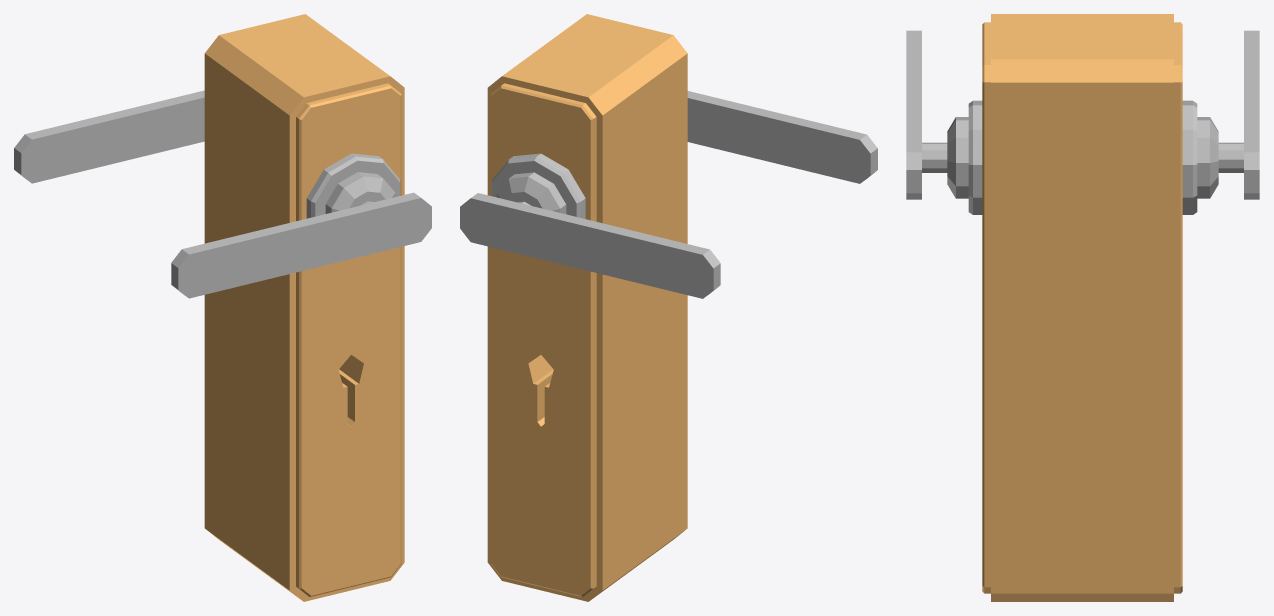
The model's file is Latch.fbx.
3 renders of one model, left to right at view 1: azimuth 30°, elevation 25°; view 2: azimuth 150°, elevation 25°; view 3: azimuth 270°, elevation 25°, orthographic. The views are drawn at different scales.
Parts seen in each view (by area): view 1: LatchModel, LatchHandle, LatchHandle.002, LatchLock; view 2: LatchModel, LatchHandle.002, LatchHandle, LatchLock.002; view 3: LatchModel, LatchHandle, LatchHandle.002, LatchLock.002, LatchLock.
Boxes of the visible parts, x1=… form: LatchModel: x1=204, y1=14, x2=404, y2=601; LatchHandle: x1=171, y1=192, x2=431, y2=298; LatchHandle.002: x1=14, y1=90, x2=204, y2=183; LatchLock: x1=306, y1=153, x2=400, y2=218; LatchModel: x1=487, y1=14, x2=687, y2=601; LatchHandle.002: x1=460, y1=193, x2=720, y2=298; LatchHandle: x1=687, y1=91, x2=877, y2=183; LatchLock.002: x1=491, y1=153, x2=585, y2=218; LatchModel: x1=982, y1=14, x2=1182, y2=601; LatchHandle: x1=906, y1=30, x2=947, y2=199; LatchHandle.002: x1=1218, y1=30, x2=1259, y2=199; LatchLock.002: x1=1182, y1=100, x2=1218, y2=214; LatchLock: x1=947, y1=100, x2=982, y2=214.
Size of the model in its own units: 12.96 by 23.54 by 13.89.
